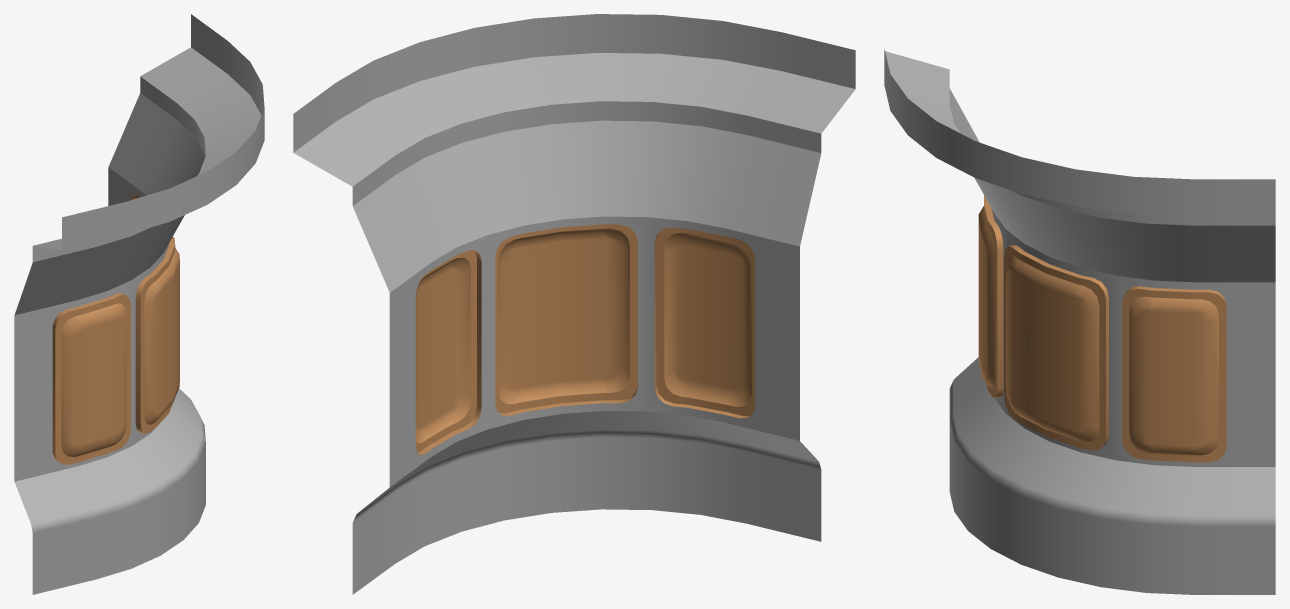
The model's file is wall corner out.fbx.
3 views of the same model, side by side, from view 1: azimuth 30°, elevation 25°; view 2: azimuth 150°, elevation 25°; view 3: azimuth 270°, elevation 25° (orthographic). The views are drawn at different scales.
Visible parts, largest first — view 1: Corner Out; view 2: Corner Out; view 3: Corner Out.
Boxes of the visible parts, x1,y1,x2,y2 form: Corner Out: (14, 14, 264, 594); Corner Out: (293, 14, 855, 594); Corner Out: (884, 49, 1275, 594).
Size of the model in its own units: 240 by 240 by 300.
